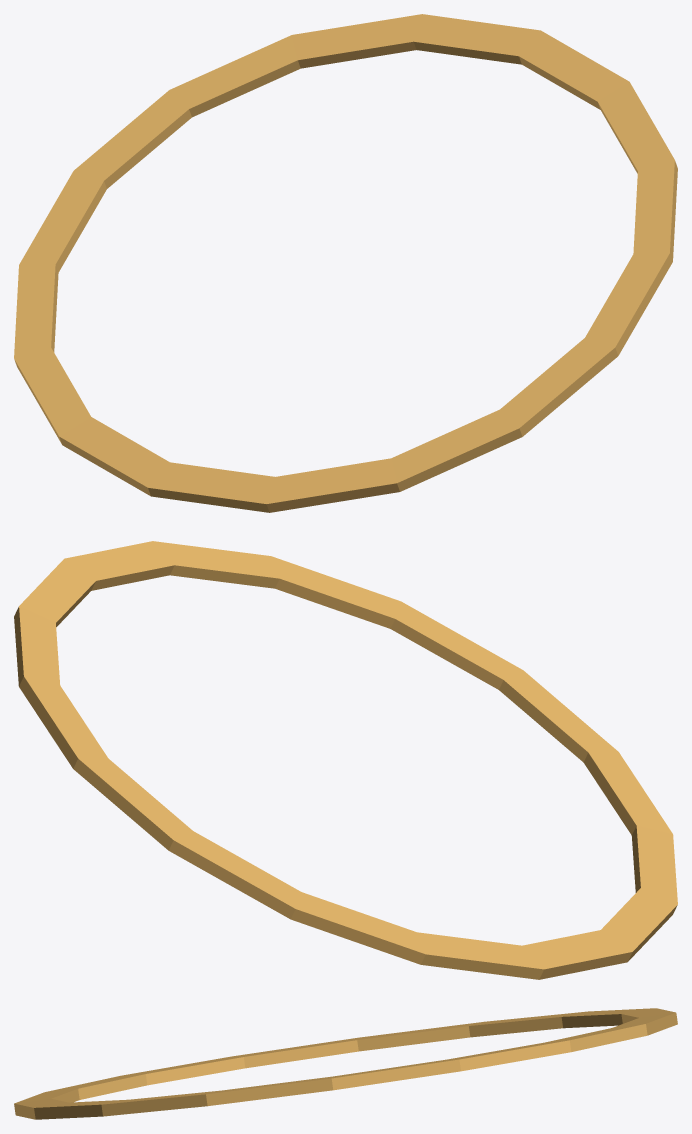
Rendered from Main_1001_obj_05.fbx.
3 renders of one model, top to bottom at view 1: azimuth 30°, elevation 25°; view 2: azimuth 150°, elevation 25°; view 3: azimuth 270°, elevation 25°, orthographic. The views are drawn at different scales.
Visible parts, largest first — view 1: Circle.001; view 2: Circle.001; view 3: Circle.001.
Part boxes in pixels (x1,y1,x2,y2): Circle.001: (14,14,677,512); Circle.001: (14,541,677,979); Circle.001: (14,1008,677,1119).
Bounding box in the file's own units: 38.1 × 16.68 × 40.37.
